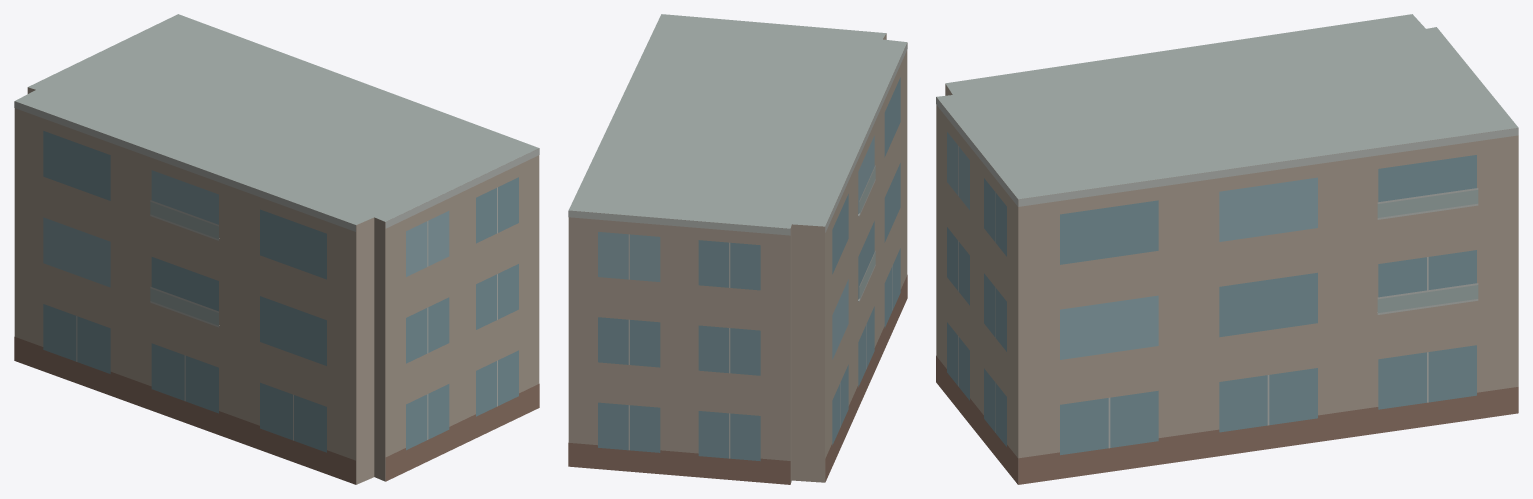
The model's file is survey-upis-32703977.glb.
3 renders of one model, left to right at view 1: azimuth 30°, elevation 25°; view 2: azimuth 150°, elevation 25°; view 3: azimuth 270°, elevation 25°, orthographic. The views are drawn at different scales.
Visible parts, largest first — view 1: survey-upis-32703977.tmp; view 2: survey-upis-32703977.tmp; view 3: survey-upis-32703977.tmp.
Part boxes in pixels (left/top/right/bottom): survey-upis-32703977.tmp: left=14, top=14, right=539, bottom=484; survey-upis-32703977.tmp: left=568, top=14, right=907, bottom=484; survey-upis-32703977.tmp: left=936, top=14, right=1518, bottom=484.
Size of the model in its own units: 12.75 by 9.15 by 16.93.
